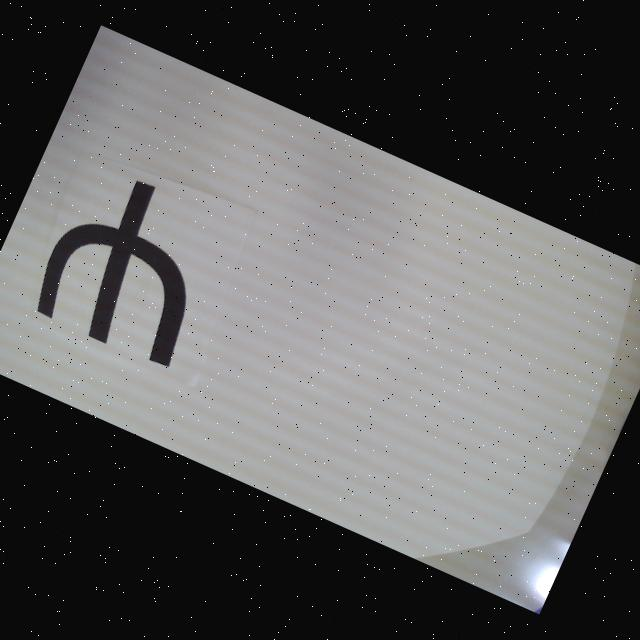PSI: (26, 158, 236, 372)
